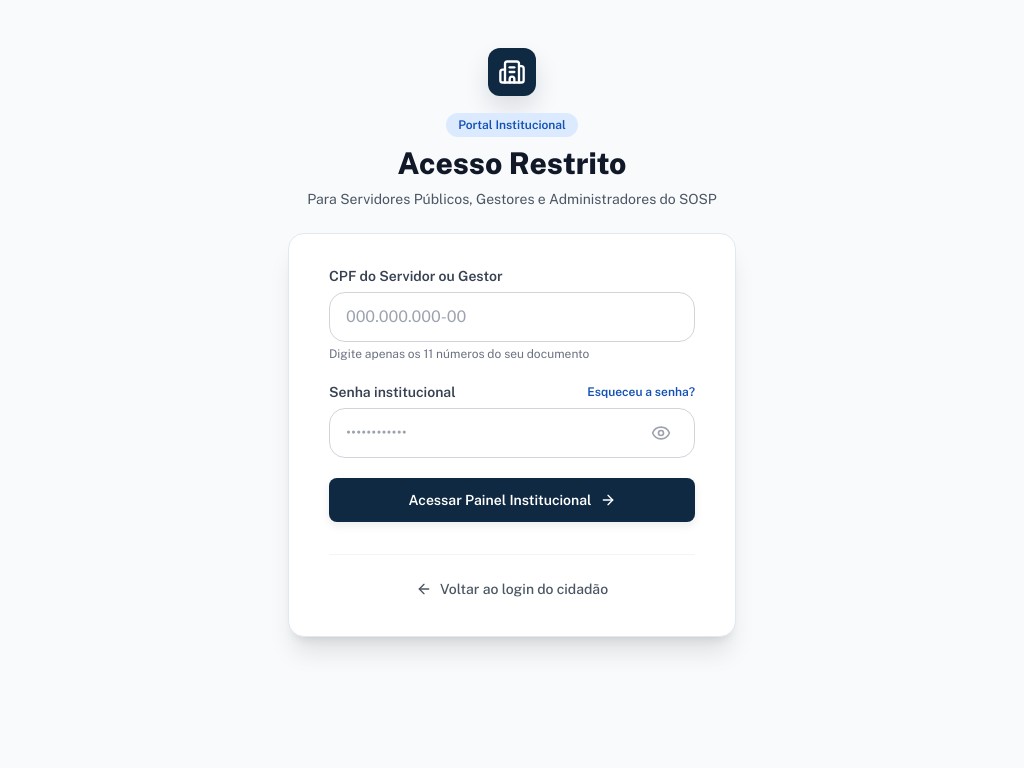
Scenario: Login Institucional (ADR-003, RN-35, RN-36) › deve fechar o pop-up e limpar sessão temporária do localStorage ao cancelar ou pressionar Escape
The width and height of the screenshot is (1024, 768).
Type "999.888.777-14" into the field labelled "CPF do Servidor ou Gestor" at (512, 317), box [329,292,695,342]
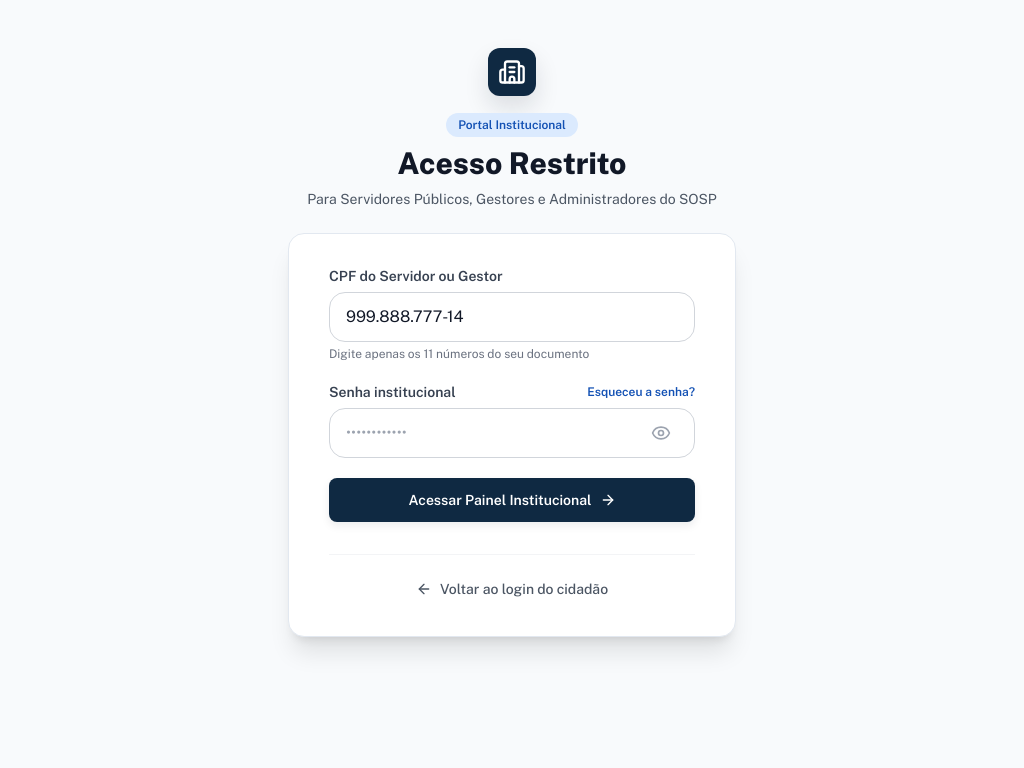
Type "AdminSosp@2026!" into the password field labelled "Senha institucional" at (512, 433), box [329,408,695,458]
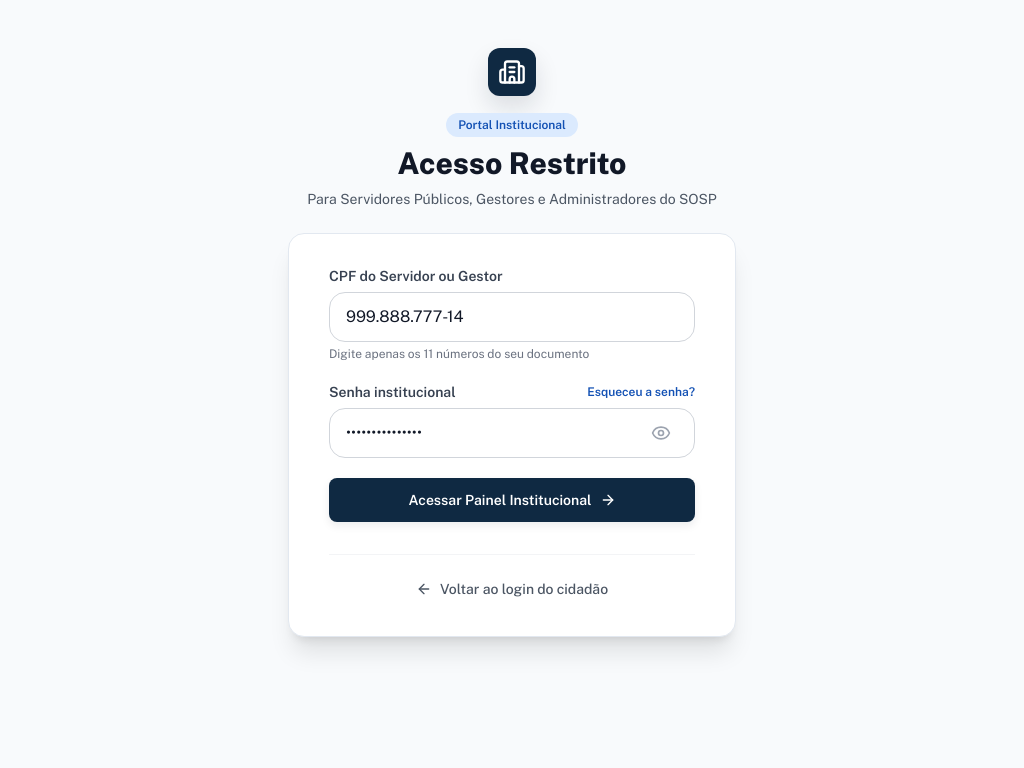
Click the button "Acessar Painel Institucional" at (512, 500), box [329,478,695,522]
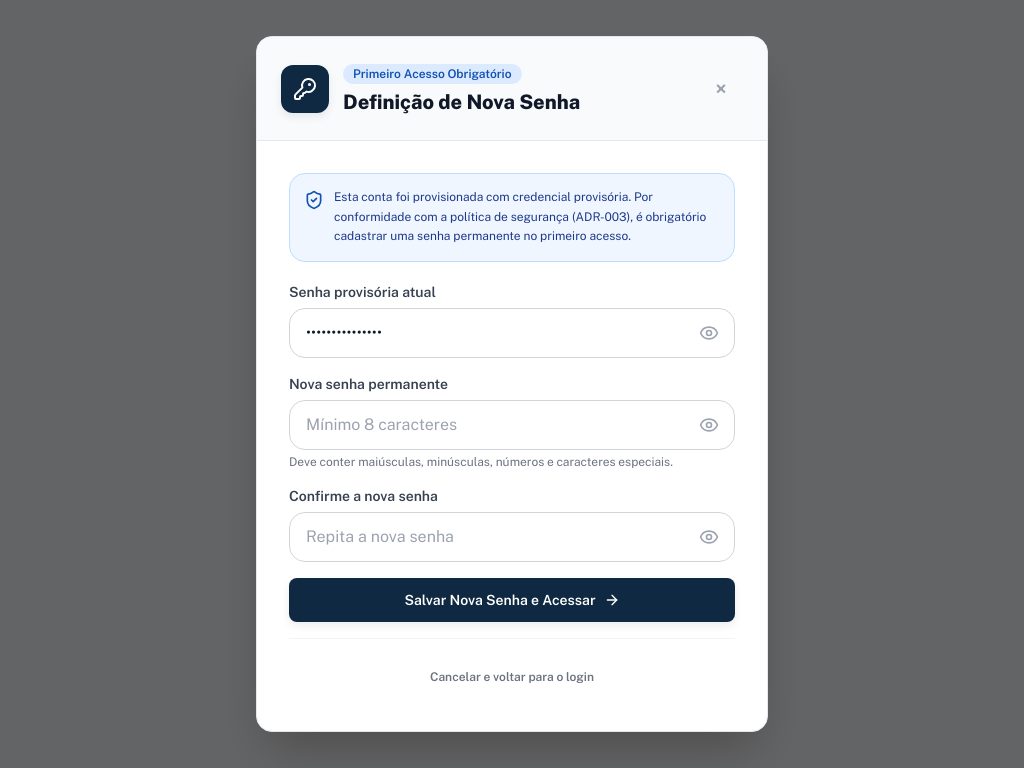
Check: the dialog is shown
Click the button "Cancelar e voltar para o login" at (512, 677), box [430,655,594,699]
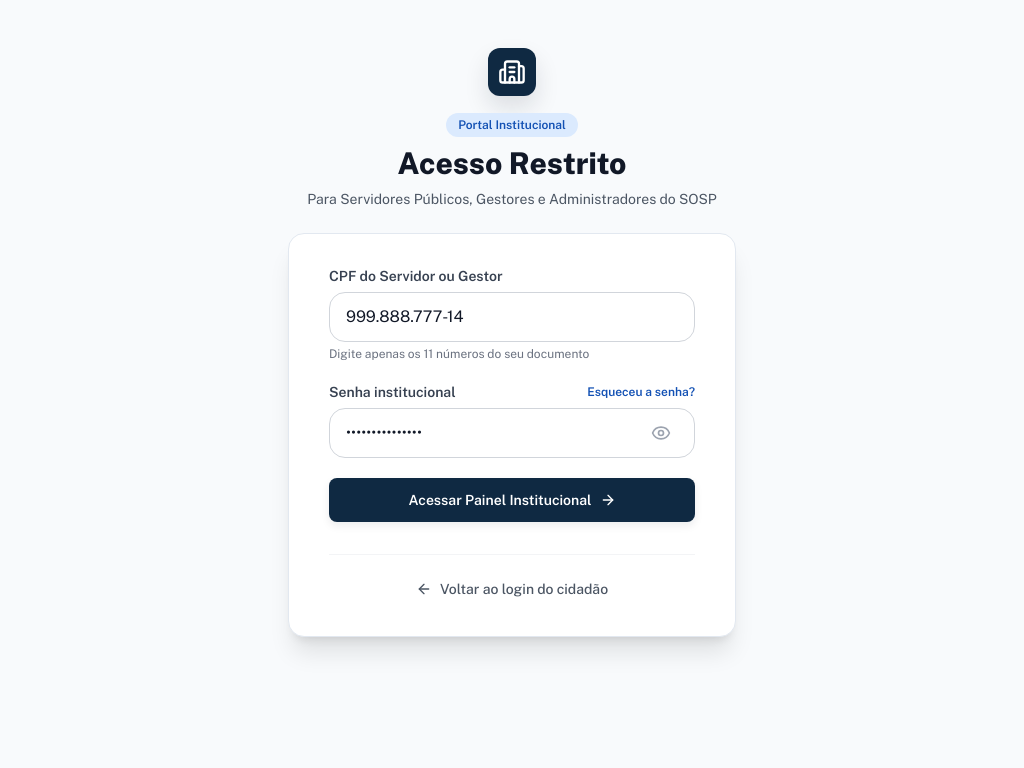
Check: the dialog is gone
